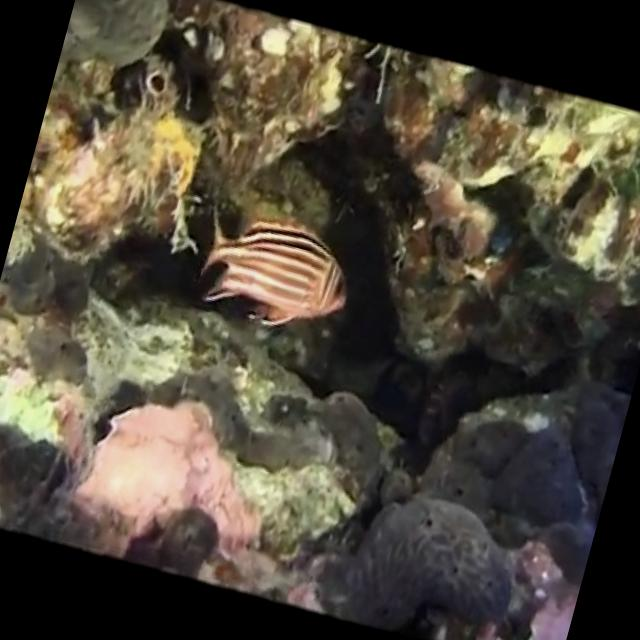Asker Baligi: (182, 195, 365, 348)
